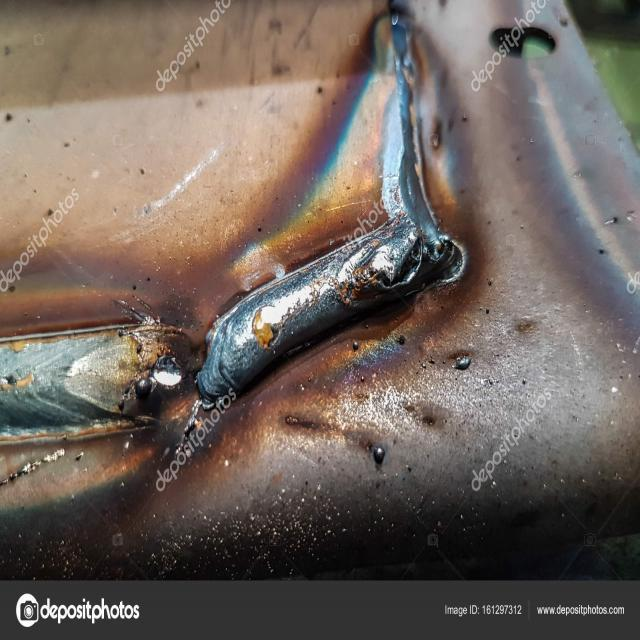Bad Welding: (220, 214, 472, 323), (0, 333, 207, 434)
